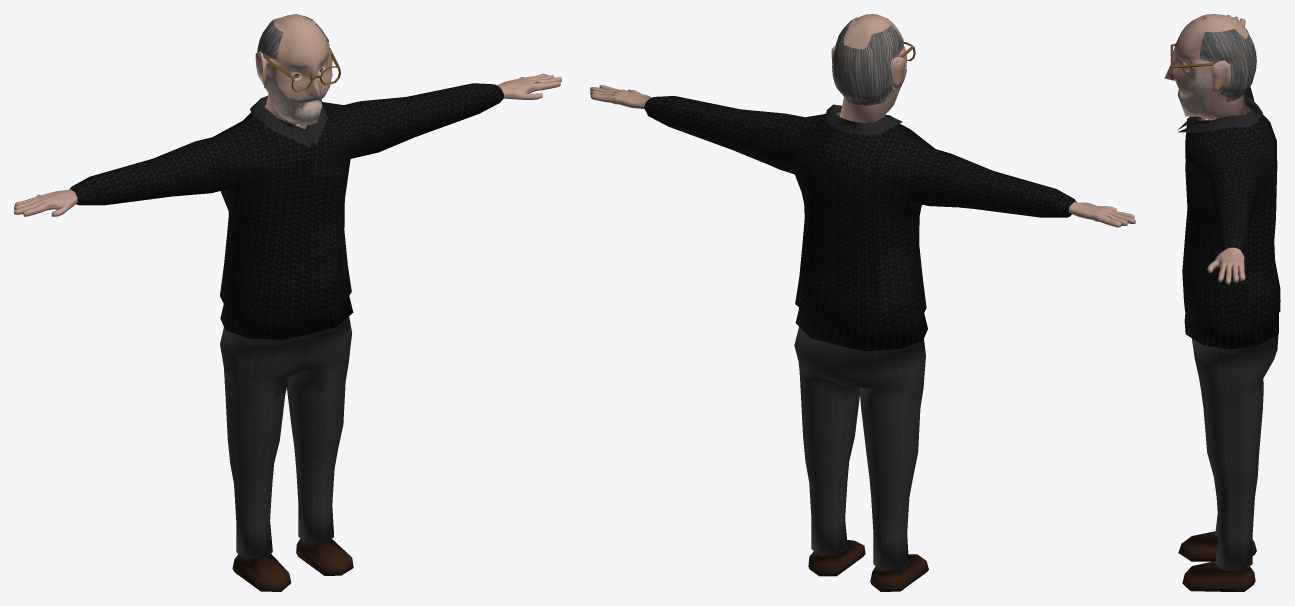
Rendered from JayBolter.dae.
3 views of the same model, side by side, from view 1: azimuth 30°, elevation 25°; view 2: azimuth 150°, elevation 25°; view 3: azimuth 270°, elevation 25° (orthographic).
Parts seen in each view (by area): view 1: JayBolter; view 2: JayBolter; view 3: JayBolter.
Part boxes in pixels (bbox=[...]): JayBolter: bbox=[14, 14, 561, 591]; JayBolter: bbox=[590, 14, 1135, 591]; JayBolter: bbox=[1164, 14, 1280, 591].
Bounding box in the file's own units: 2.13 × 0.3921 × 2.06.
